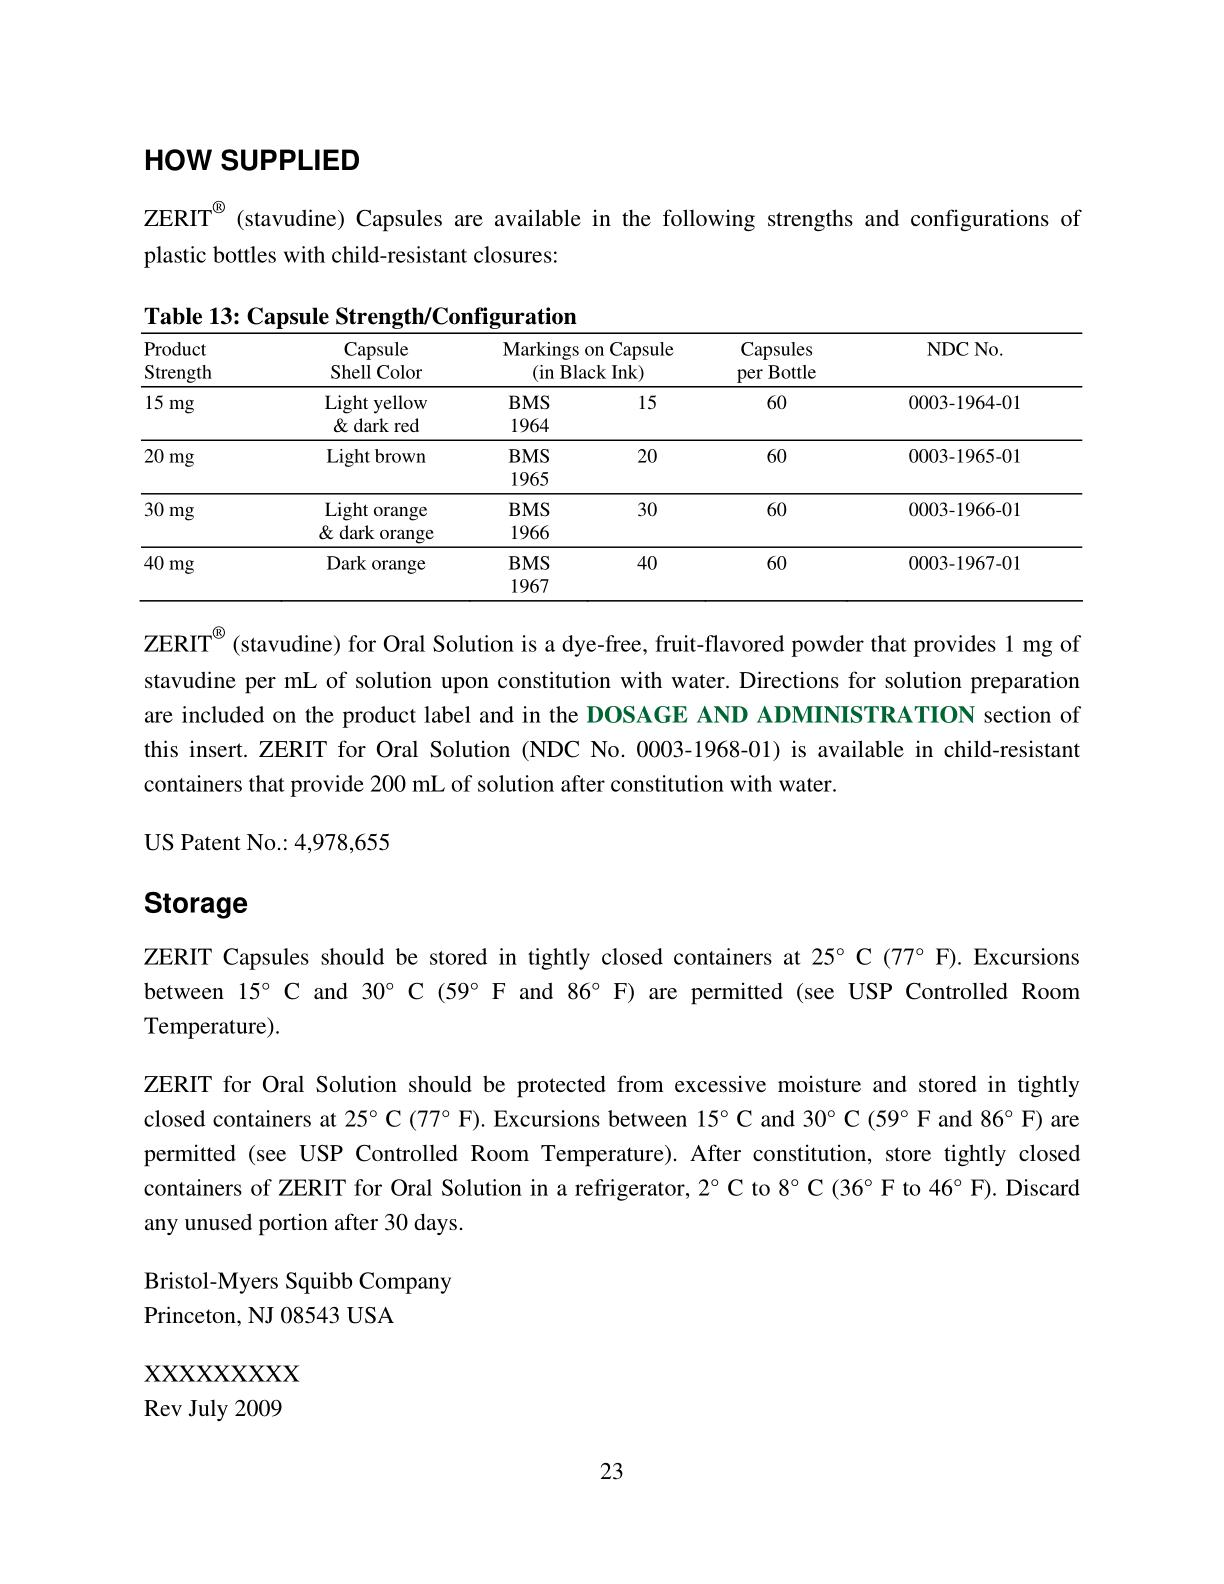partial_lined_merged_cells: (138, 329, 1086, 606)
